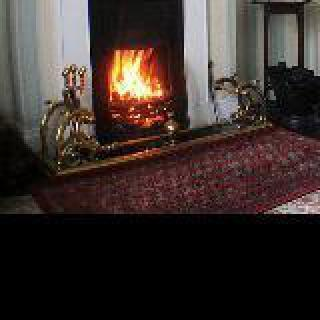fire: (102, 42, 172, 118)
